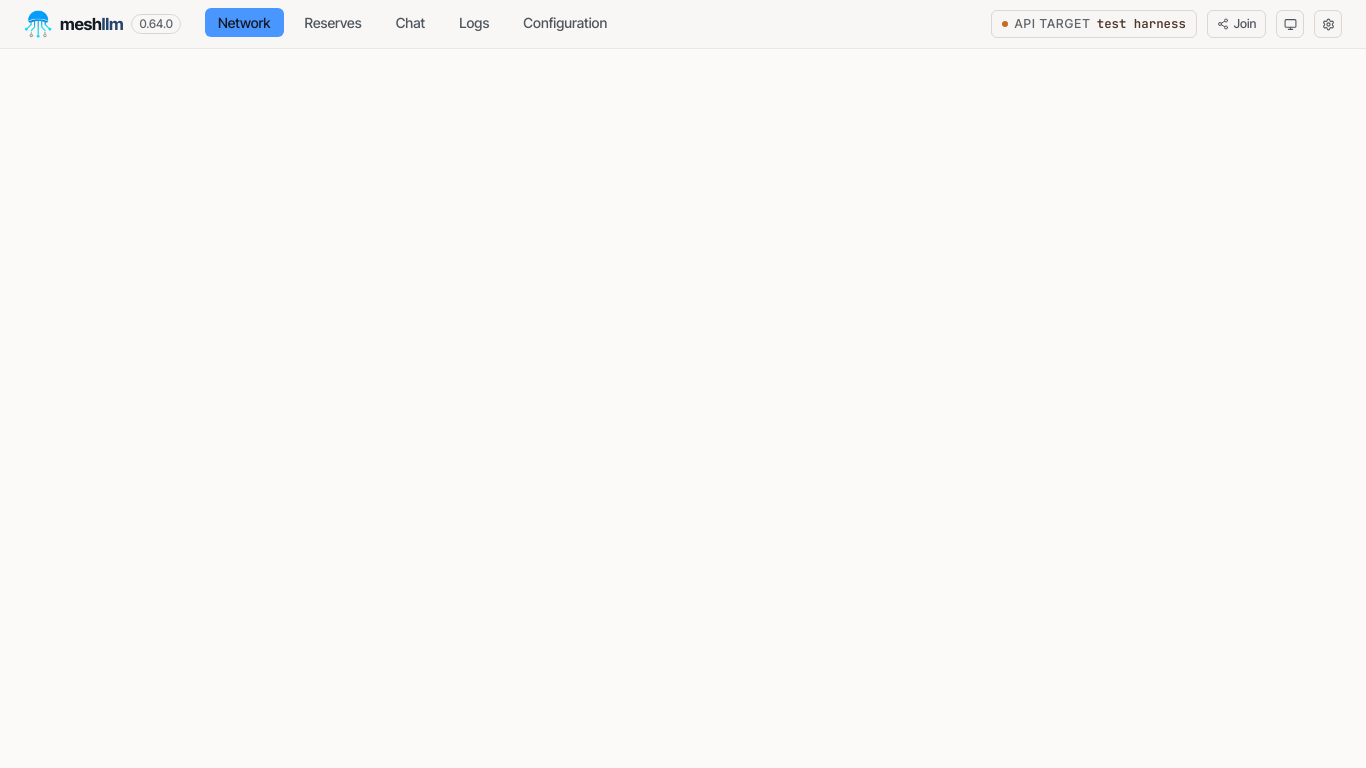
it: TopNav › shows unavailable invite rows and disables copying when live status has no token
This screenshot has width=1366, height=768.
Click the button with aria-label "Mesh join and invite instructions" at (1236, 24), box [1207,10,1266,38]
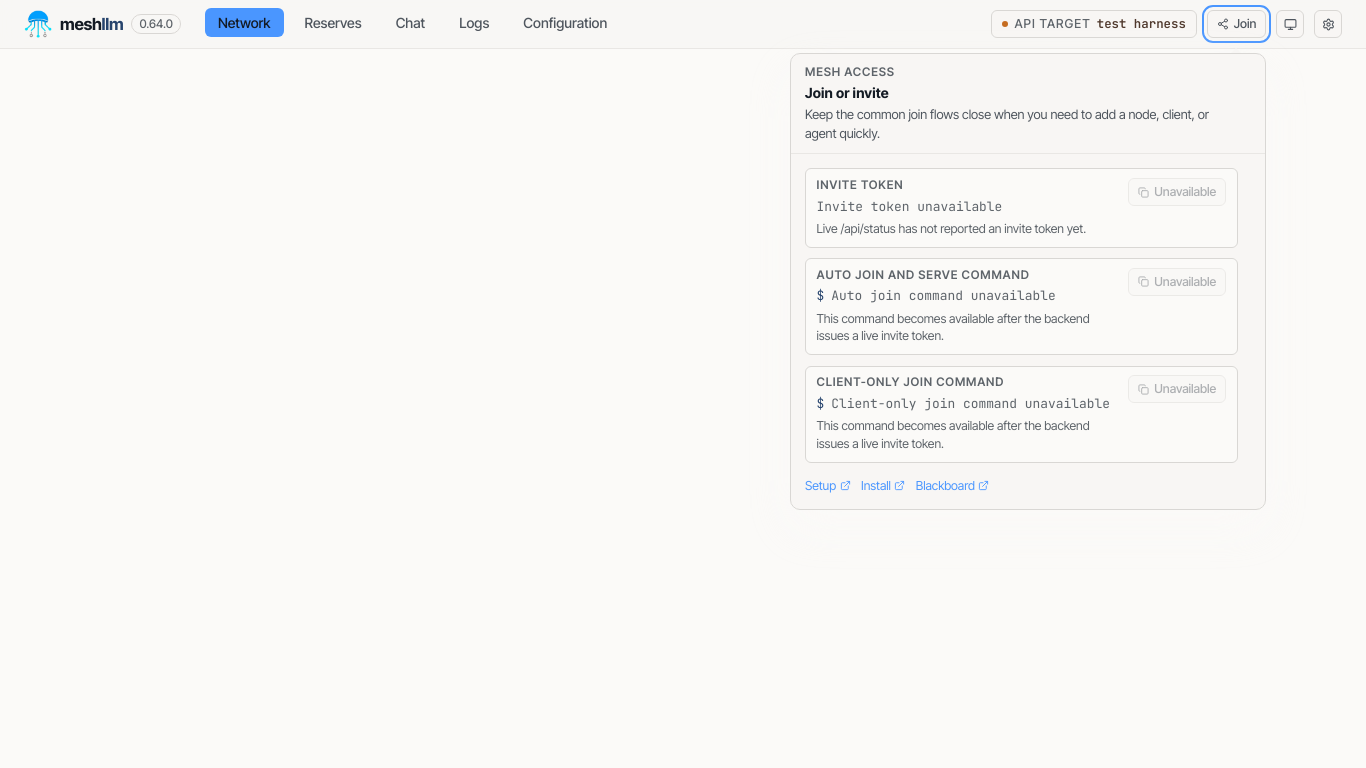
Check: the button with aria-label "Copy Invite token" is disabled, box [1128,178,1226,206]
Check: the button with aria-label "Copy Auto join and serve command" is disabled, box [1128,268,1226,296]
Check: the button with aria-label "Copy Client-only join command" is disabled, box [1128,375,1226,403]
